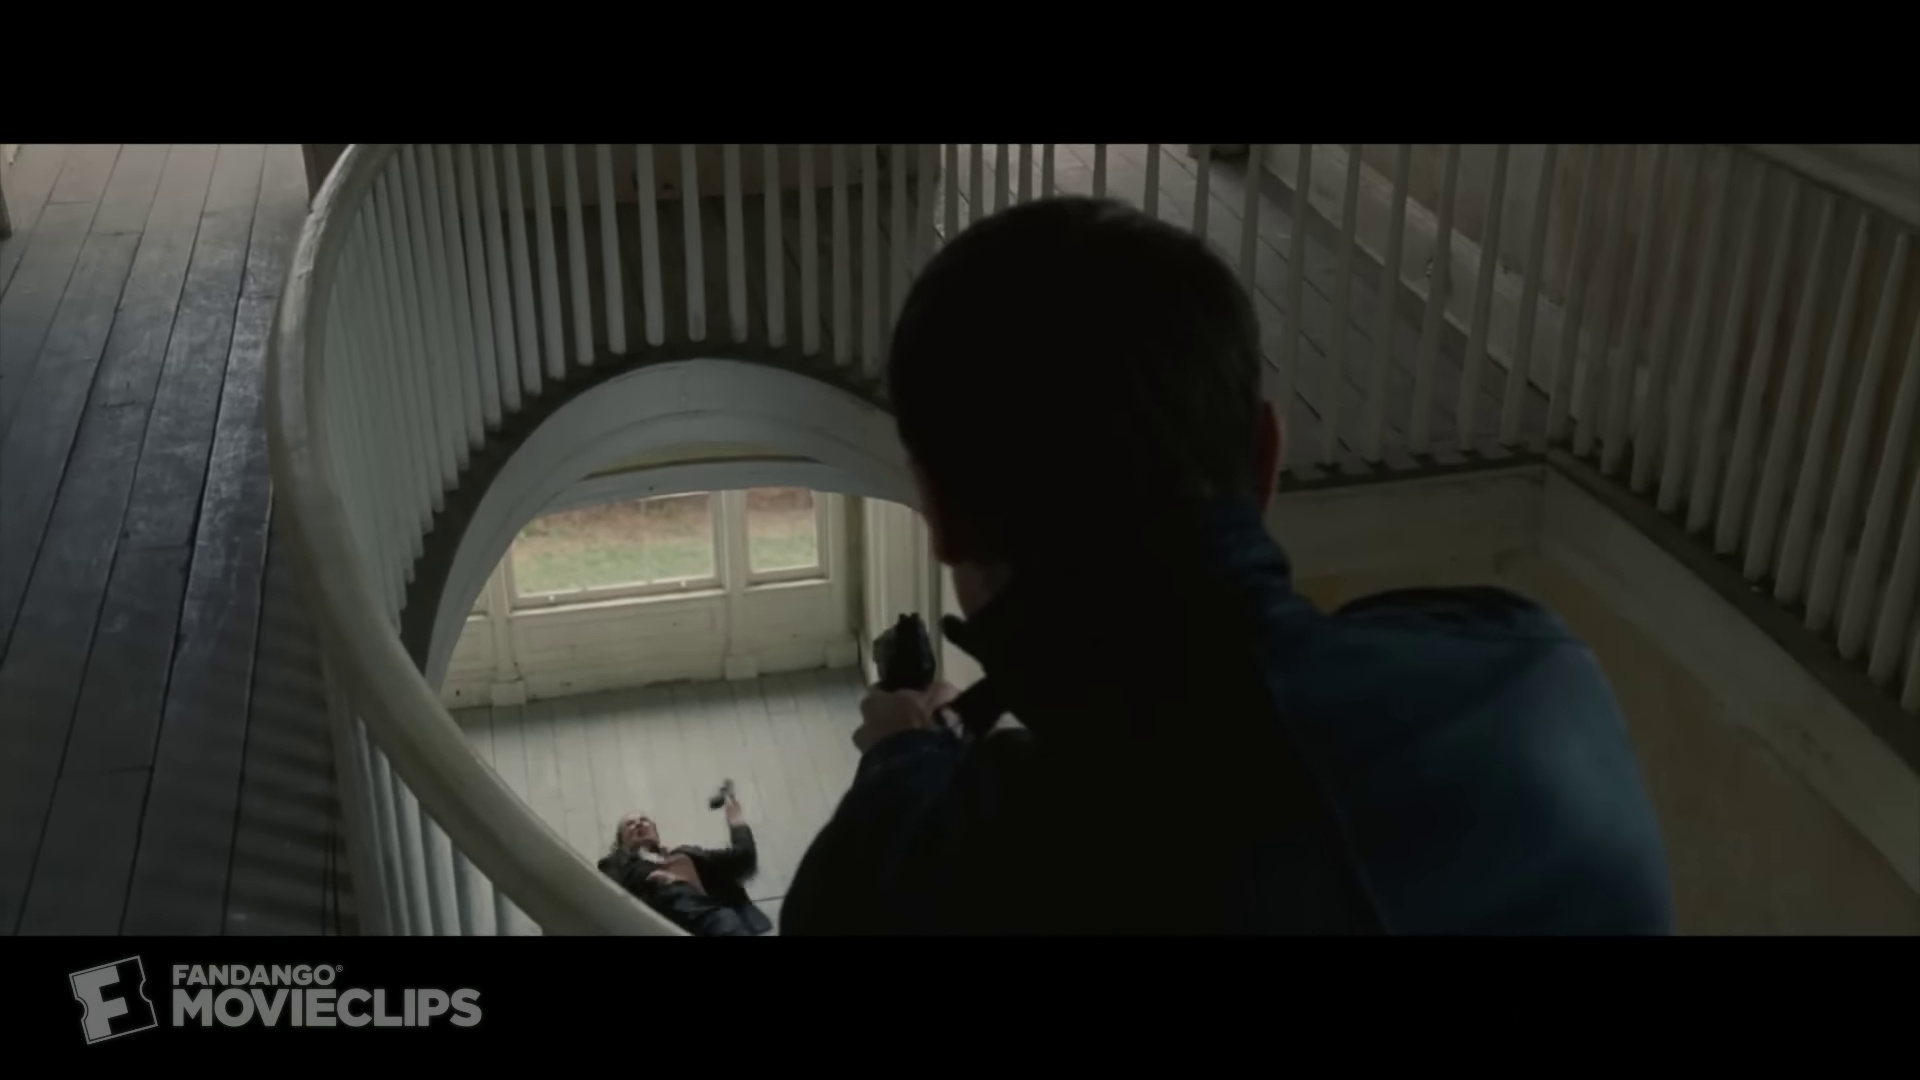gun: (861, 607, 940, 698)
p_w_gun: (787, 183, 1687, 936)
p_wo_gun_carrying_another_object: (587, 777, 775, 939)
